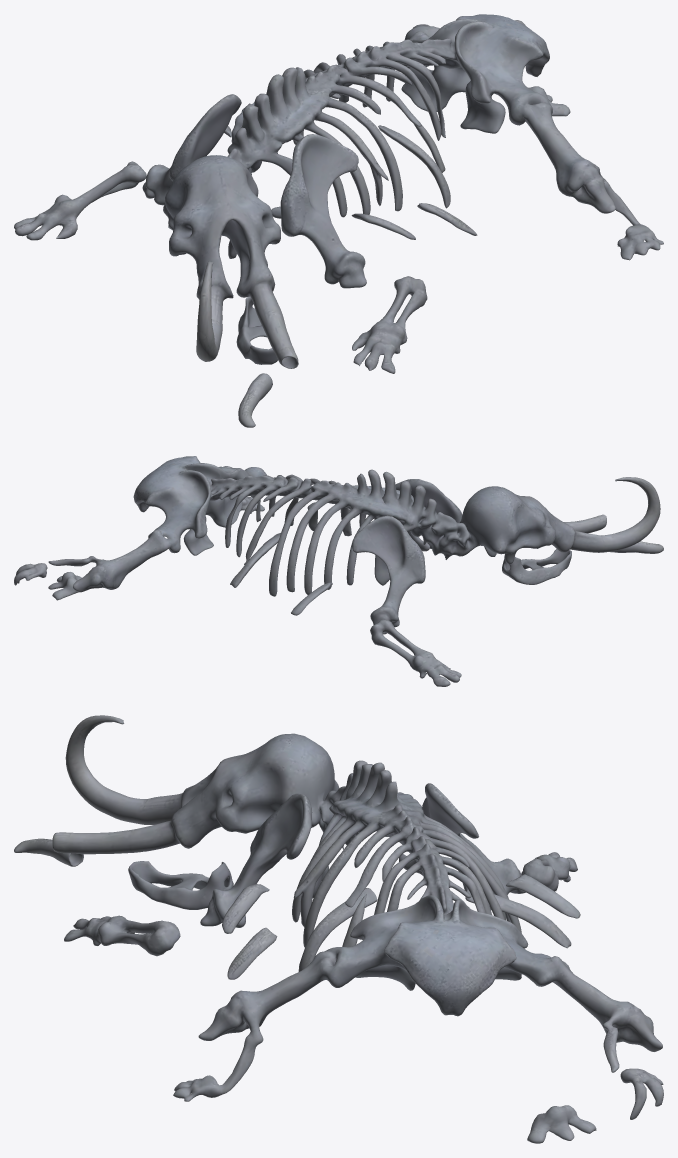
File: esqueleto_mamut.glb
The picture shows the model from 3 angles, top to bottom: view 1: azimuth 30°, elevation 25°; view 2: azimuth 150°, elevation 25°; view 3: azimuth 270°, elevation 25°; orthographic projection. The views are drawn at different scales.
Visible parts, largest first — view 1: tripo_node_19a45901; view 2: tripo_node_19a45901; view 3: tripo_node_19a45901.
Part boxes in pixels (x1,y1,x2,y2): tripo_node_19a45901: [14, 14, 663, 427]; tripo_node_19a45901: [14, 456, 663, 686]; tripo_node_19a45901: [14, 715, 663, 1143].
Size of the model in its own units: 99.75 by 29.22 by 88.07.
Materials: 1 (1 with a texture image).
